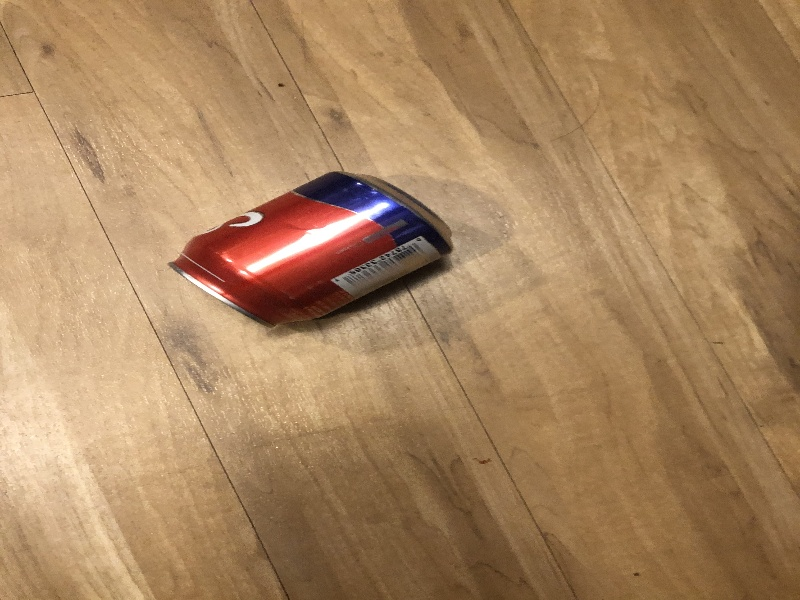metal: (167, 167, 468, 333)
